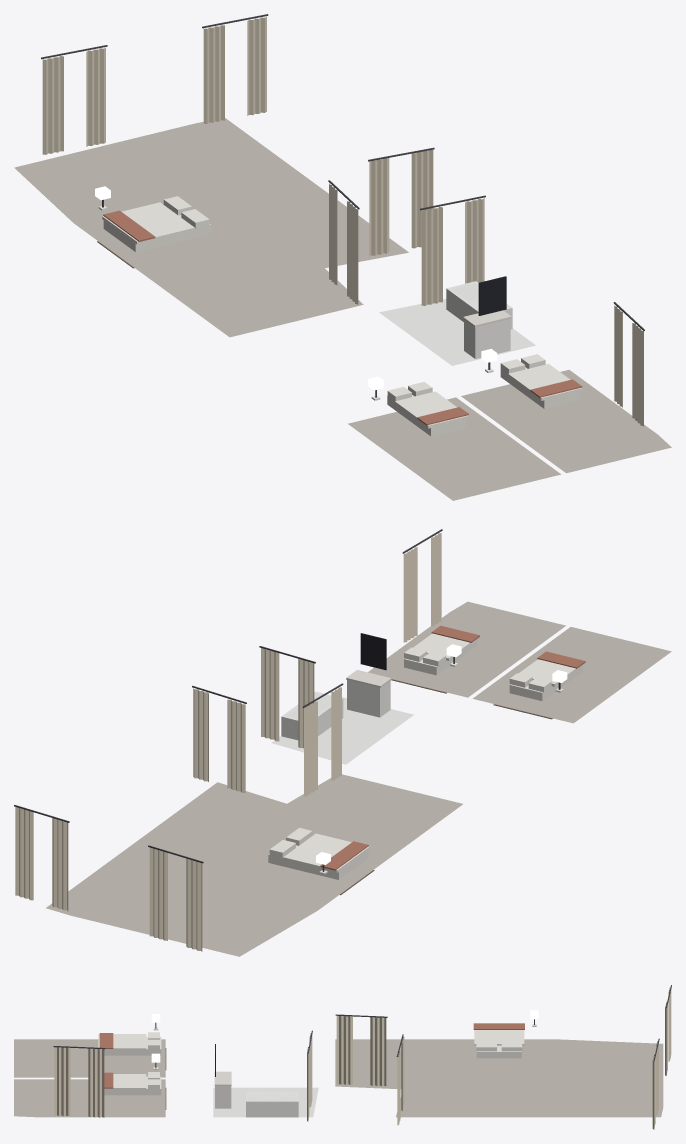
File: fine-s2.glb
3 renders of one model, top to bottom at view 1: azimuth 30°, elevation 25°; view 2: azimuth 150°, elevation 25°; view 3: azimuth 270°, elevation 25°, orthographic. The views are drawn at different scales.
Parts seen in each view (by area): view 1: soft-s2, vanity.001, bathtub.001; view 2: soft-s2, vanity.001, bathtub.001; view 3: soft-s2, bathtub.001, vanity.001.
Boxes of the visible parts, x1,y1,x2,y2 form: soft-s2: [14, 14, 671, 500]; vanity.001: [463, 276, 511, 358]; bathtub.001: [446, 281, 512, 329]; soft-s2: [14, 529, 671, 956]; vanity.001: [346, 633, 391, 717]; bathtub.001: [281, 691, 343, 740]; soft-s2: [14, 985, 671, 1129]; bathtub.001: [246, 1091, 298, 1117]; vanity.001: [214, 1044, 231, 1108].
Size of the model in its own units: 6.65 by 2.41 by 20.21.
